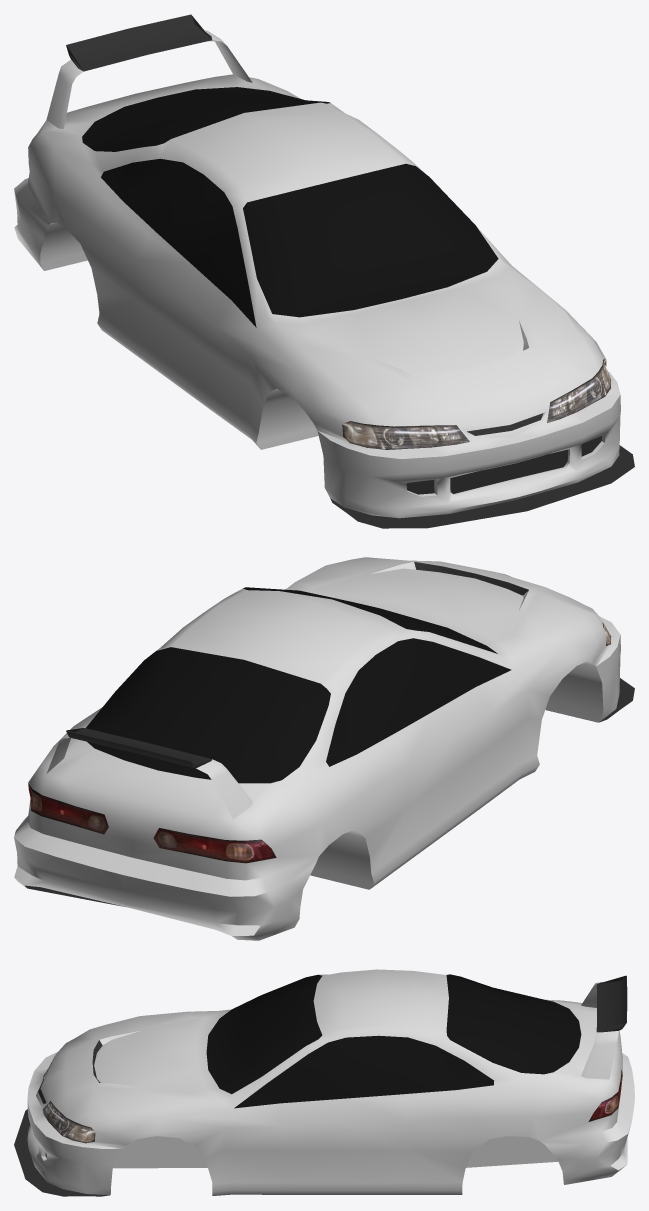
File: JapanSmallFWDCoupe.fbx
The picture shows the model from 3 angles, top to bottom: view 1: azimuth 30°, elevation 25°; view 2: azimuth 150°, elevation 25°; view 3: azimuth 270°, elevation 25°; orthographic projection. The views are drawn at different scales.
Parts seen in each view (by area): view 1: Plane; view 2: Plane; view 3: Plane.
Boxes of the visible parts, left/top/right/bottom form: Plane: left=14, top=14, right=634, bottom=528; Plane: left=14, top=557, right=634, bottom=940; Plane: left=14, top=969, right=634, bottom=1196.
Size of the model in its own units: 125 by 83.08 by 305.
